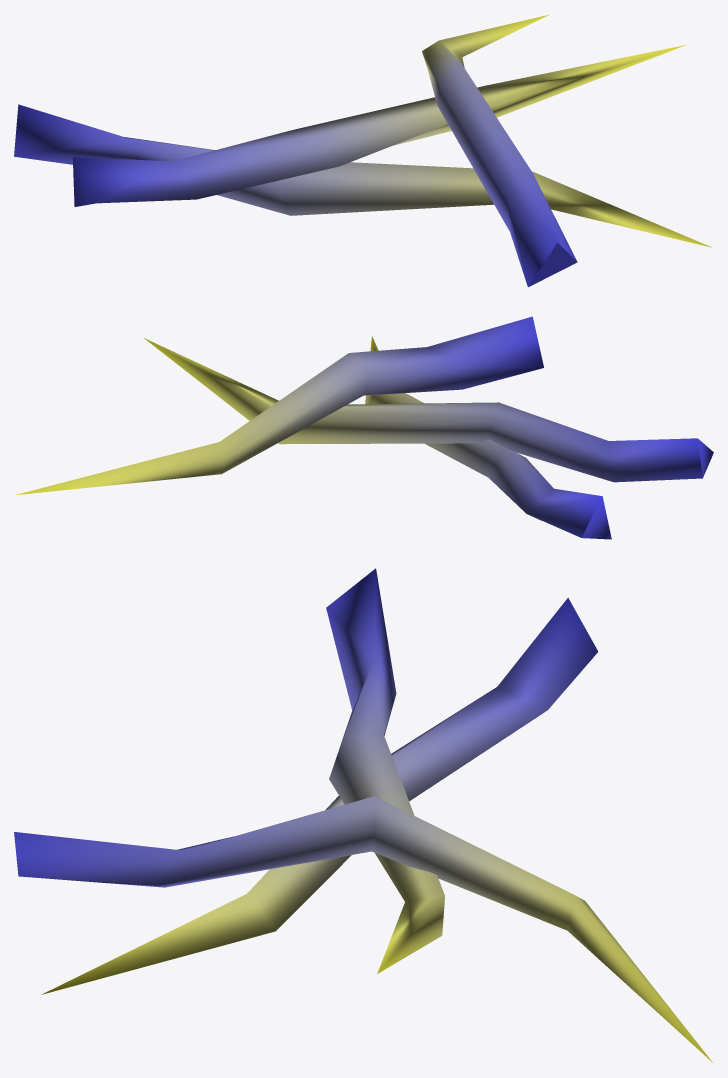
File: BirowStickPile.fbx
3 views of the same model, one above another, from view 1: azimuth 30°, elevation 25°; view 2: azimuth 150°, elevation 25°; view 3: azimuth 270°, elevation 25° (orthographic). The views are drawn at different scales.
Parts seen in each view (by area): view 1: Birow.Stick.Pile; view 2: Birow.Stick.Pile; view 3: Birow.Stick.Pile.
Boxes of the visible parts, x1,y1,x2,y2 form: Birow.Stick.Pile: (14,14,712,287); Birow.Stick.Pile: (15,316,713,539); Birow.Stick.Pile: (14,568,712,1062).
Bounding box in the file's own units: 166 × 28.37 × 135.
